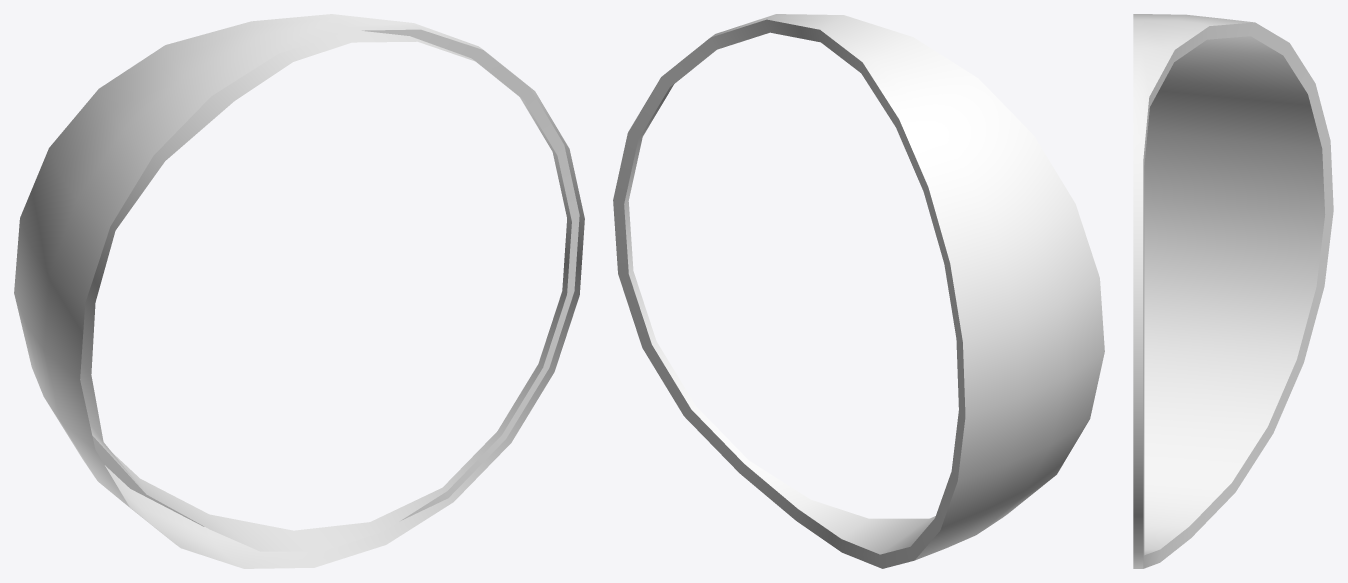
Rendered from LShoulderPitch.dae.
3 renders of one model, left to right at view 1: azimuth 30°, elevation 25°; view 2: azimuth 150°, elevation 25°; view 3: azimuth 270°, elevation 25°, orthographic. The views are drawn at different scales.
Parts seen in each view (by area): view 1: LShoulderPitch; view 2: LShoulderPitch; view 3: LShoulderPitch.
Part boxes in pixels (box(x1,y1,x2,y2)): LShoulderPitch: box(14, 14, 584, 568); LShoulderPitch: box(613, 14, 1104, 568); LShoulderPitch: box(1133, 14, 1333, 568).
Bounding box in the file's own units: 0.6598 × 0.2384 × 0.6598.
1 material, 1 textured.
